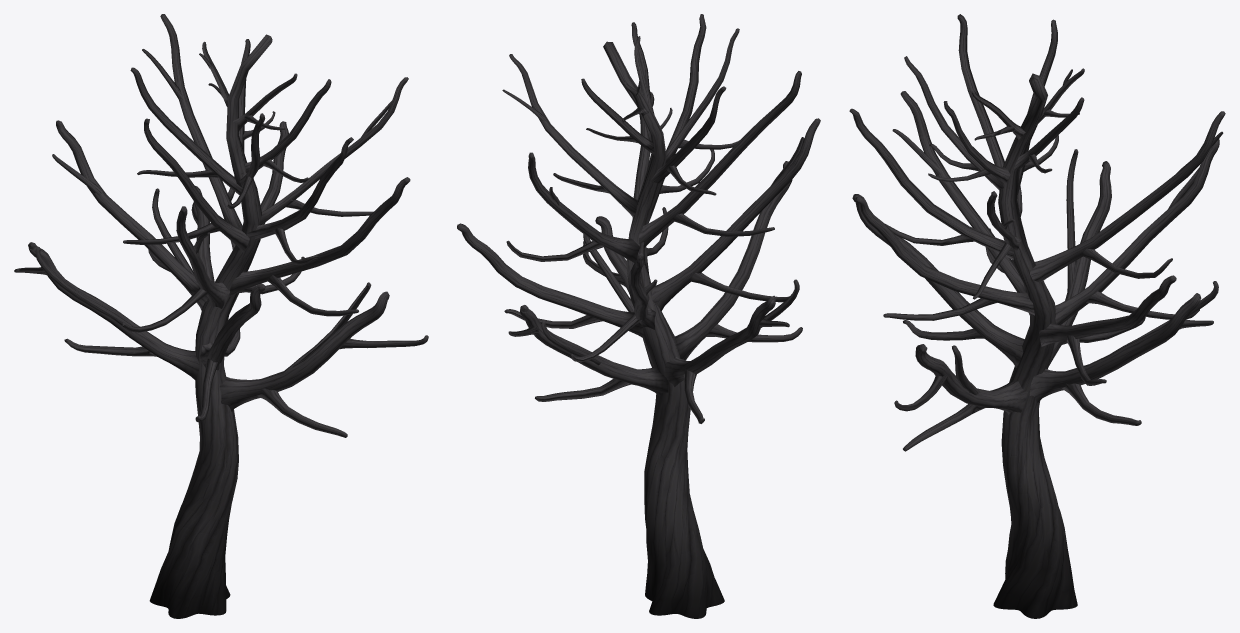
File: DeadTree_1.gltf
The picture shows the model from 3 angles, left to right: view 1: azimuth 30°, elevation 25°; view 2: azimuth 150°, elevation 25°; view 3: azimuth 270°, elevation 25°; orthographic projection. The views are drawn at different scales.
Visible parts, largest first — view 1: DeadTree_1; view 2: DeadTree_1; view 3: DeadTree_1.
Part boxes in pixels (left/top/right/bottom): DeadTree_1: left=14, top=14, right=428, bottom=618; DeadTree_1: left=457, top=14, right=820, bottom=618; DeadTree_1: left=849, top=14, right=1225, bottom=618.
Size of the model in its own units: 6.15 by 9.5 by 5.75.
1 material, 1 textured.
